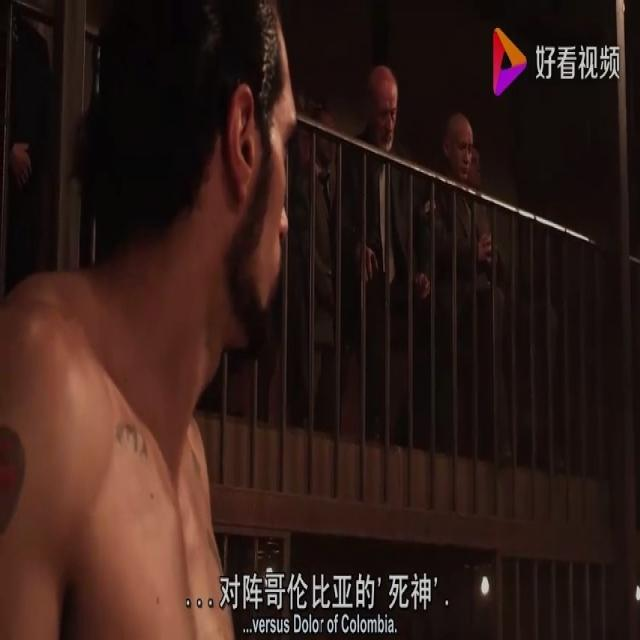non-fight: (0, 14, 309, 639), (411, 109, 510, 459)
